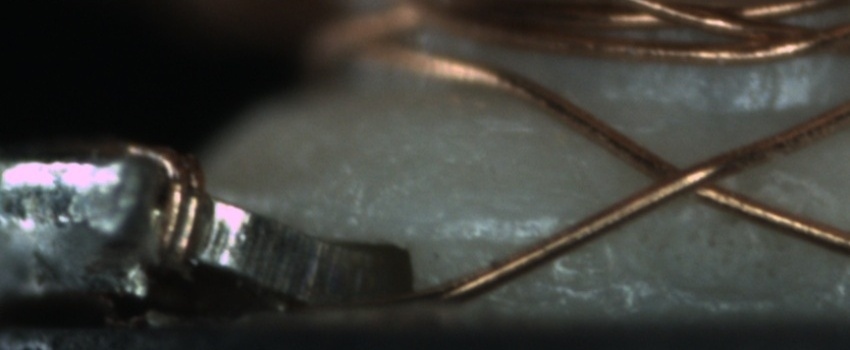CL: (624, 143, 759, 212)
DL: (437, 195, 597, 249)
TE: (89, 132, 208, 272)
